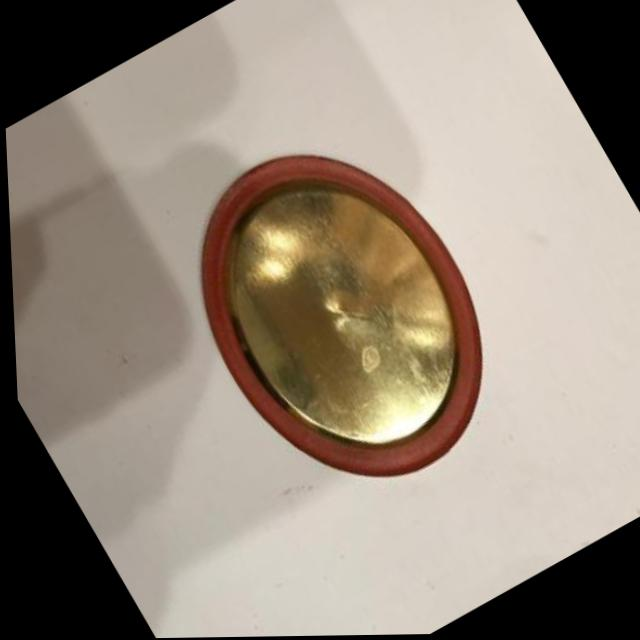metal: (118, 102, 524, 546)
